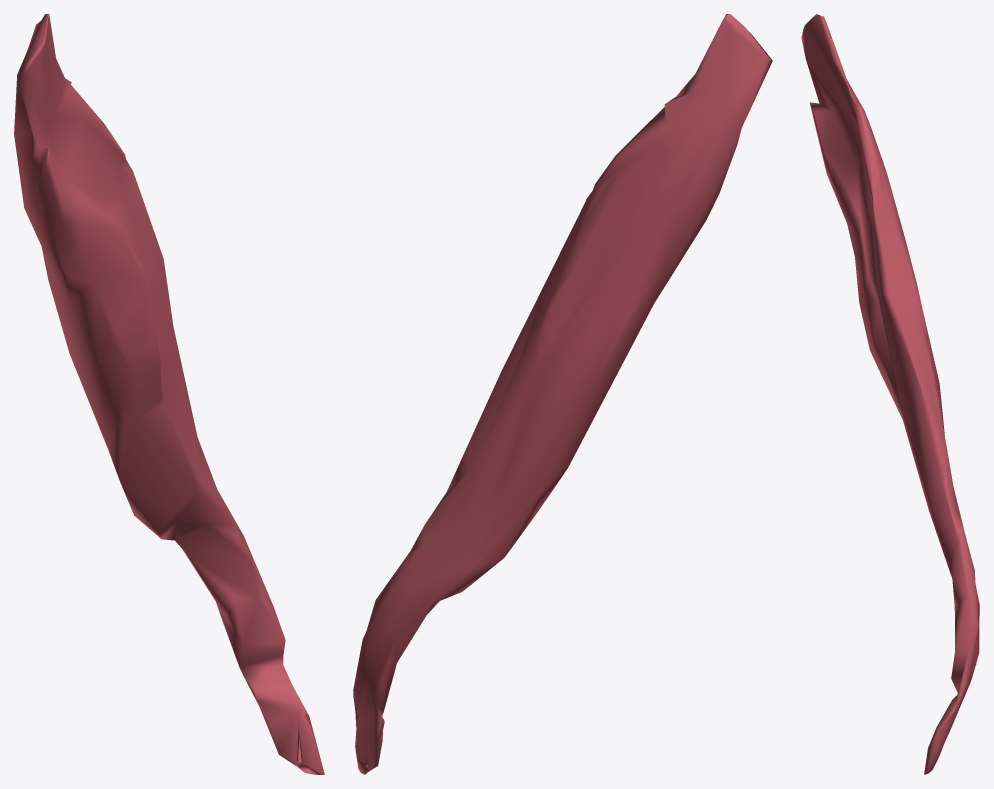
3 views of the same model, side by side, from view 1: azimuth 30°, elevation 25°; view 2: azimuth 150°, elevation 25°; view 3: azimuth 270°, elevation 25° (orthographic). The views are drawn at different scales.
Visible parts, largest first — view 1: 左侧小趾短屈肌; view 2: 左侧小趾短屈肌; view 3: 左侧小趾短屈肌.
Boxes of the visible parts, x1,y1,x2,y2 form: 左侧小趾短屈肌: [14, 14, 324, 774]; 左侧小趾短屈肌: [353, 14, 772, 774]; 左侧小趾短屈肌: [801, 14, 979, 774].
Bounding box in the file's own units: 0.0487 × 0.1072 × 0.0271.
